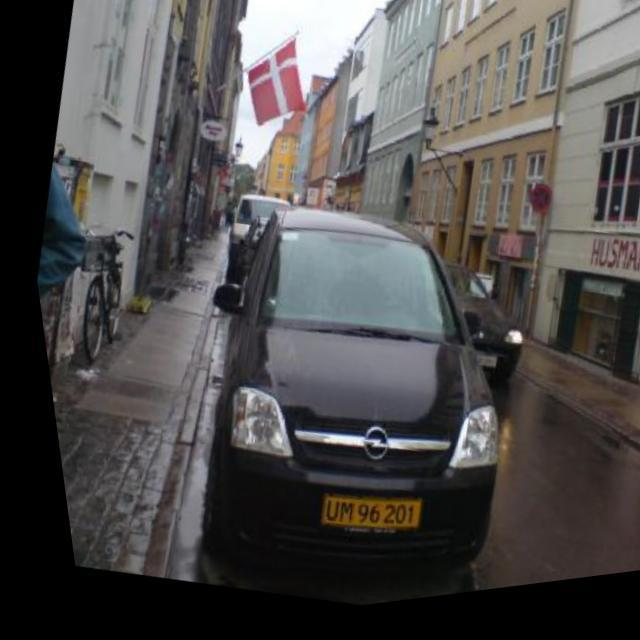license_plate: (300, 482, 412, 560)
